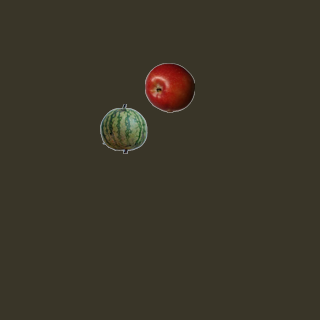Apple Braeburn: (144, 62, 194, 112)
Watermelon: (98, 103, 148, 153)
